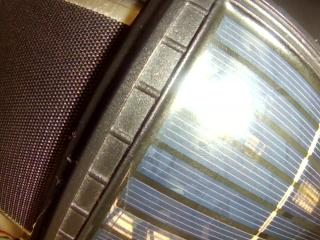scratch: (105, 177, 130, 240)
solarboard: (93, 7, 320, 240)
